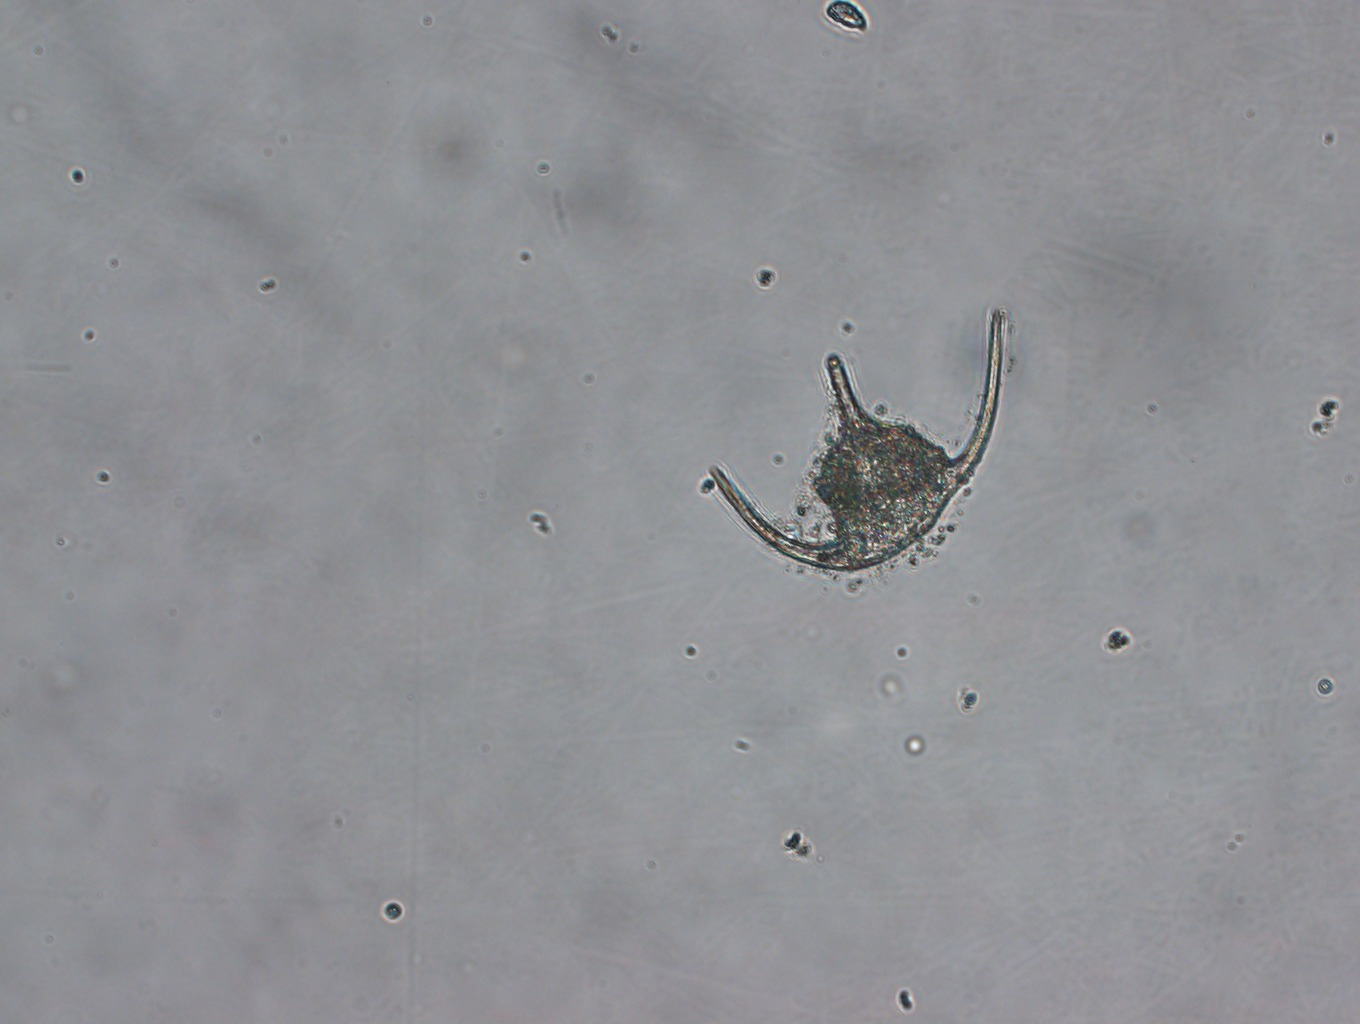ceratium tripos: (707, 305, 1004, 572)
